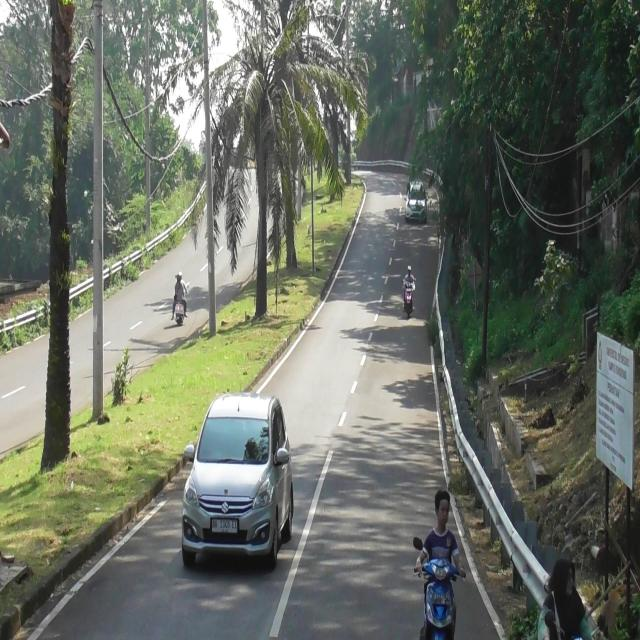motorcycle: (422, 553, 457, 640), (404, 283, 414, 317), (176, 300, 186, 326)
person: (414, 491, 466, 579), (173, 272, 184, 302), (403, 265, 415, 287), (179, 271, 187, 300)
rider_region: (414, 489, 465, 638), (172, 268, 188, 324), (401, 260, 416, 315)
